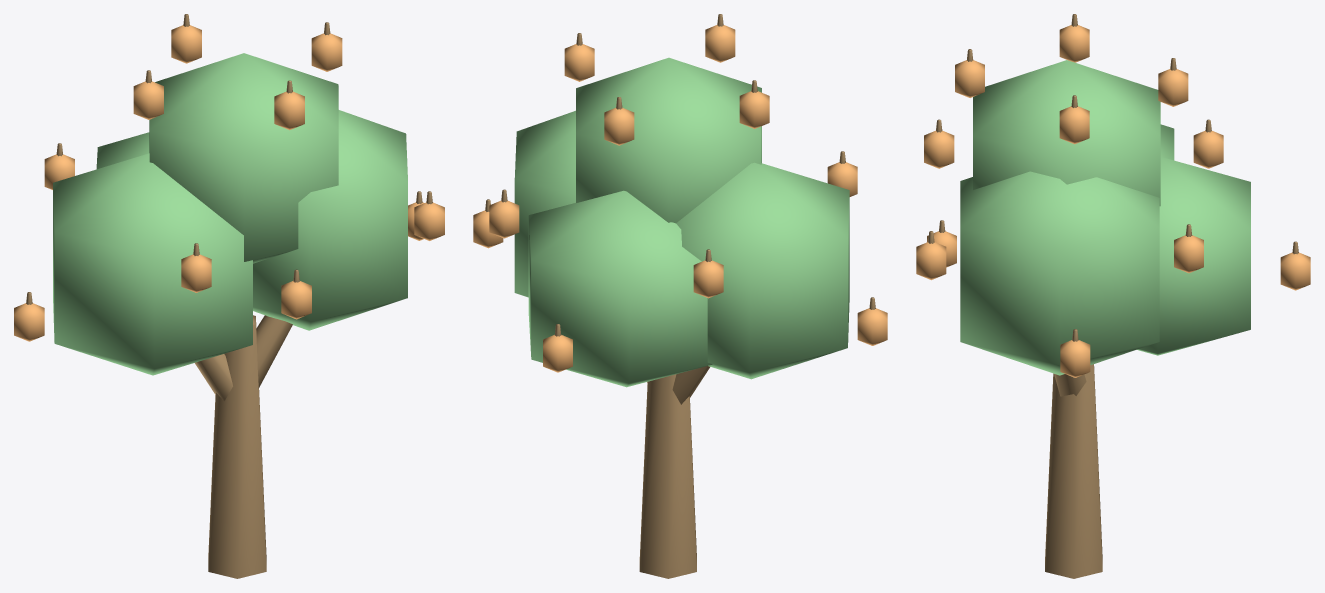
The model's file is tree_fruit_summer_low.glb.
3 renders of one model, left to right at view 1: azimuth 30°, elevation 25°; view 2: azimuth 150°, elevation 25°; view 3: azimuth 270°, elevation 25°, orthographic.
Bounding box in the file's own units: 2.74 × 3.25 × 2.26.
